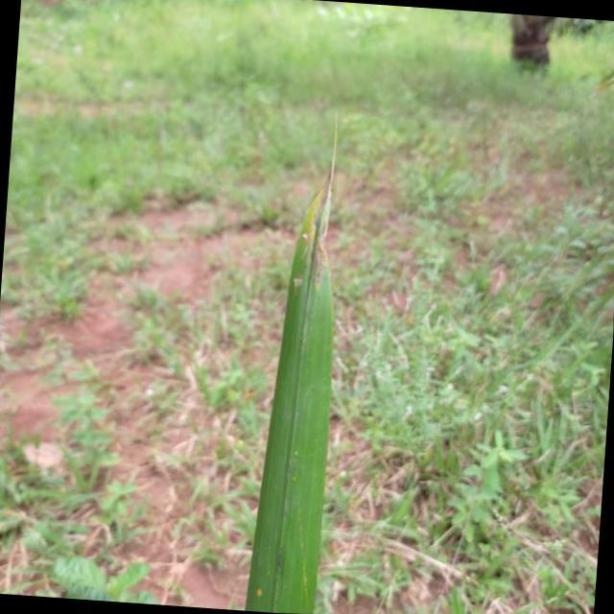Kalium: (243, 121, 364, 614)
